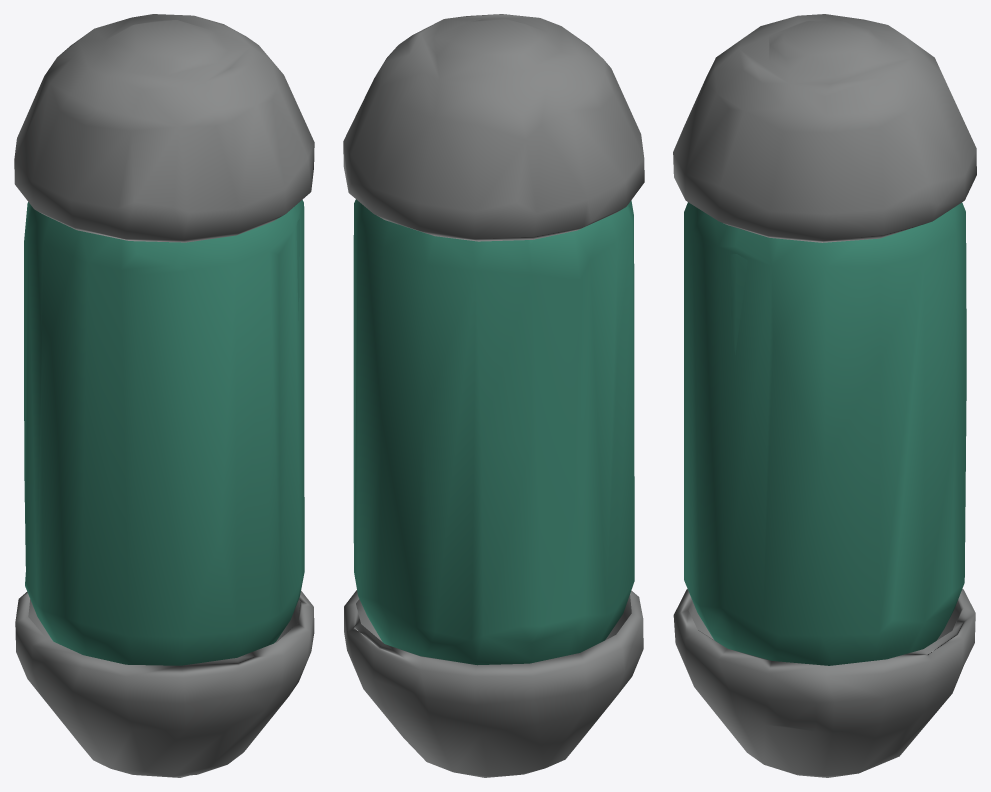
Rendered from gen3d-energy-capsule-lod1.glb.
3 renders of one model, left to right at view 1: azimuth 30°, elevation 25°; view 2: azimuth 150°, elevation 25°; view 3: azimuth 270°, elevation 25°, orthographic.
Visible parts, largest first — view 1: part_0; view 2: part_0; view 3: part_0.
Part boxes in pixels (x1,y1,x2,y2): part_0: (14, 14, 314, 777); part_0: (343, 14, 644, 777); part_0: (673, 14, 976, 777).
Bounding box in the file's own units: 0.3845 × 0.999 × 0.3847.
